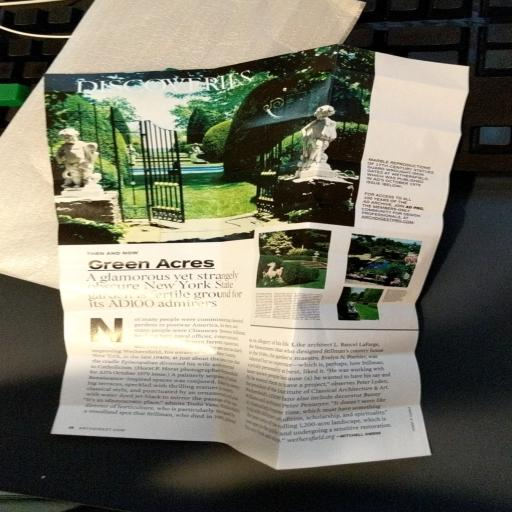paper: (18, 27, 491, 506)
